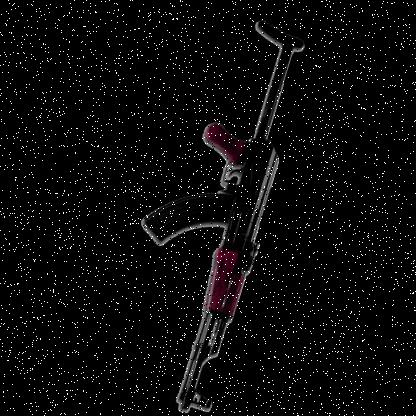rifle: (86, 4, 352, 416)
